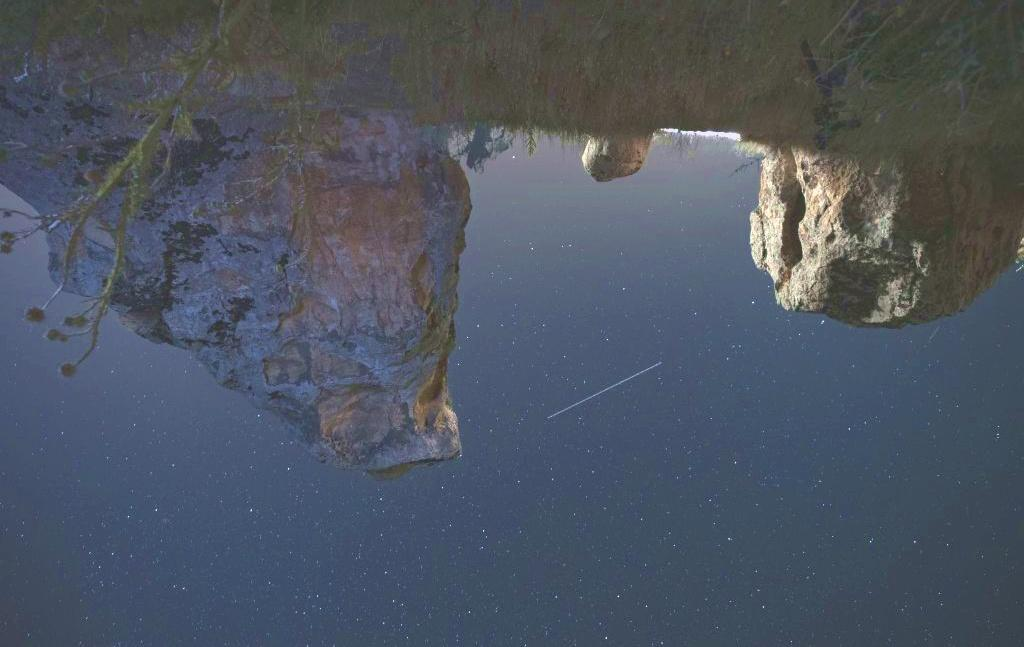meteorite: (534, 352, 675, 427)
